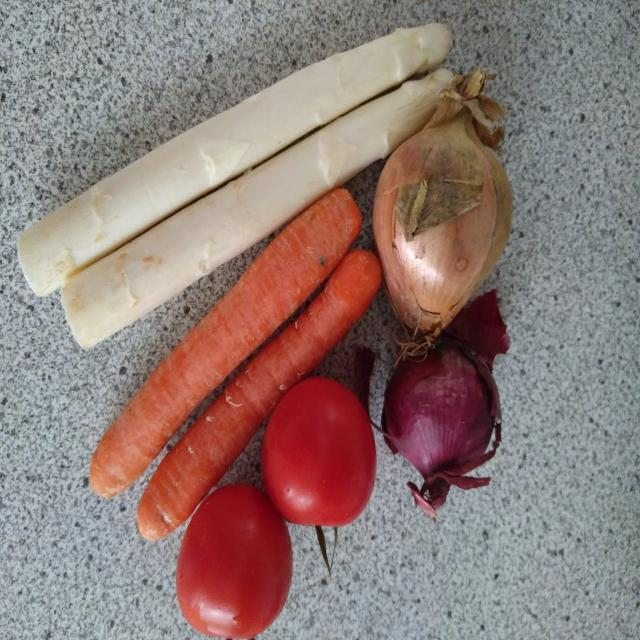Carrot: (92, 188, 362, 497), (136, 248, 383, 544)
Tomato: (262, 371, 378, 568), (174, 482, 292, 640)
